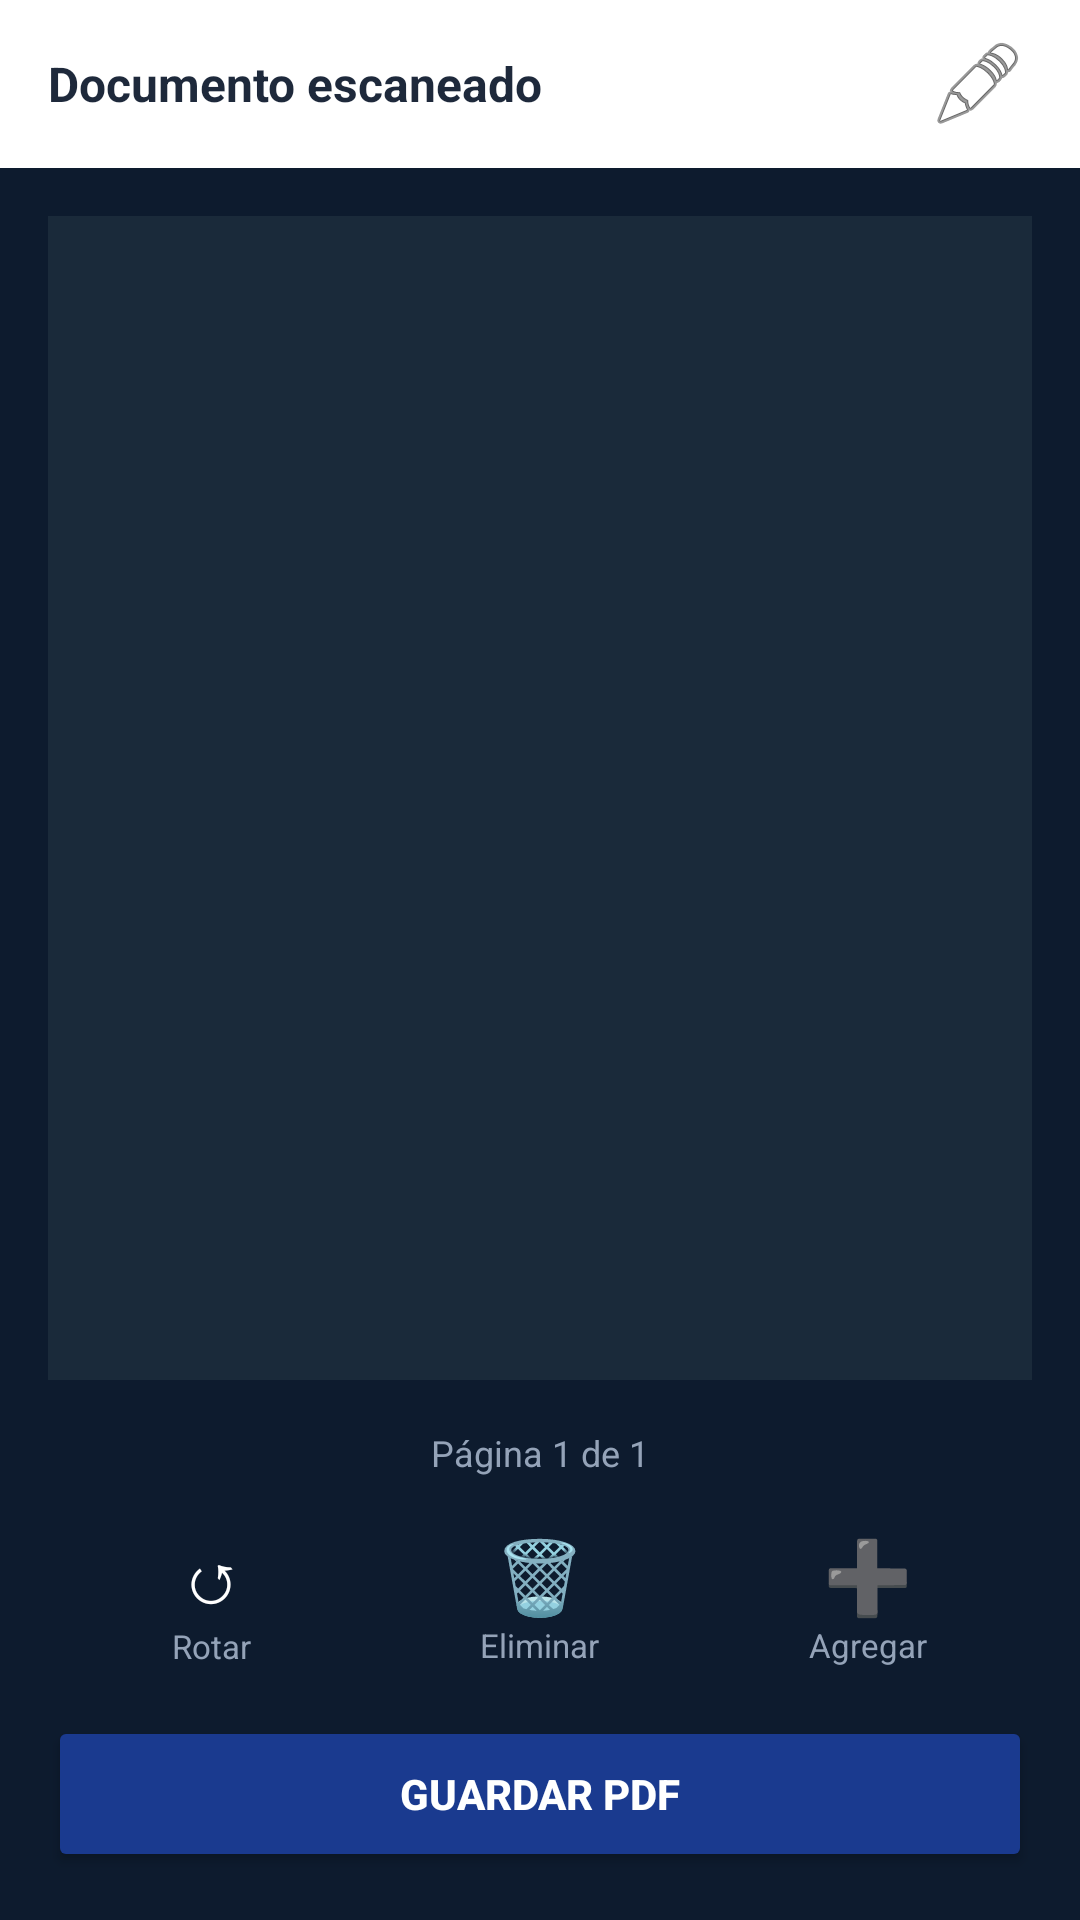

Icon click points for this 1080w x 1920h phone screenshot, format point (x, y):
Renombrar: point (977, 83)
